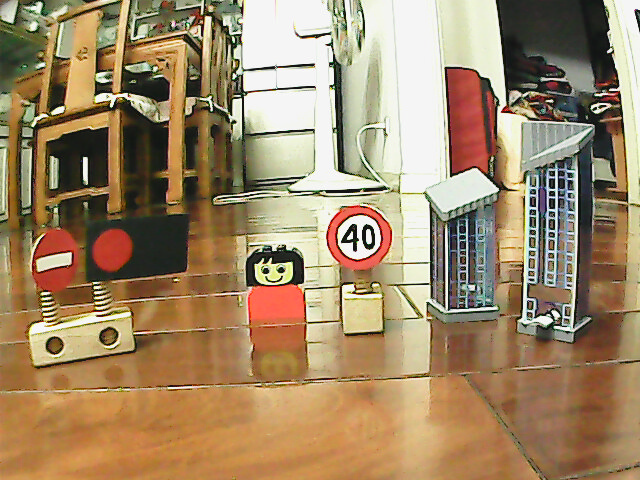Person: (243, 242, 309, 330)
Red Traffic Light: (85, 221, 138, 278)
Speed Limit 40: (324, 203, 395, 272)
Stop Sign: (27, 225, 79, 295)
